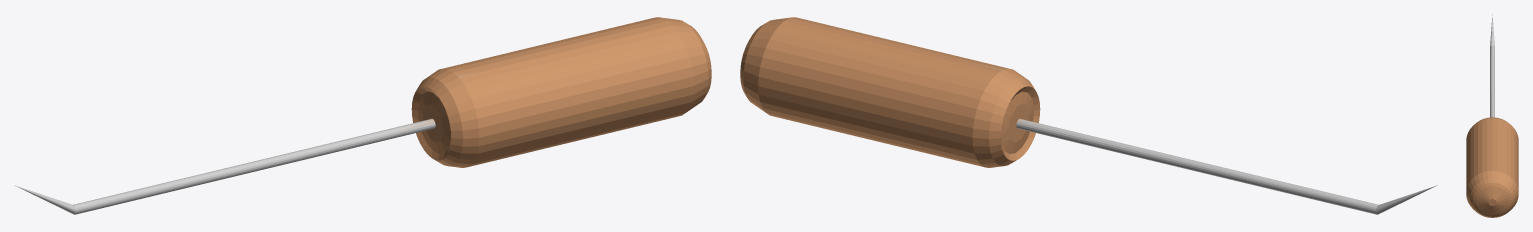
Rendered from Picklock.fbx.
The picture shows the model from 3 angles, left to right: view 1: azimuth 30°, elevation 25°; view 2: azimuth 150°, elevation 25°; view 3: azimuth 270°, elevation 25°; orthographic projection. The views are drawn at different scales.
Visible parts, largest first — view 1: Cylinder.001; view 2: Cylinder.001; view 3: Cylinder.001.
Boxes of the visible parts, box(x1,y1,x2,y2) form: Cylinder.001: box(14, 17, 711, 214); Cylinder.001: box(740, 17, 1437, 214); Cylinder.001: box(1466, 14, 1518, 217).
Size of the model in its own units: 627 by 80.22 by 82.99.
